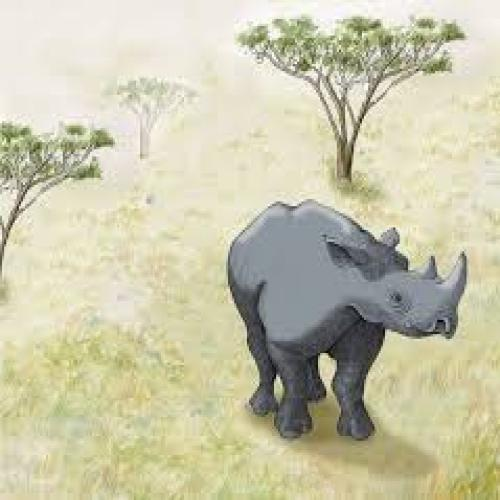rhino-endangered: (230, 199, 469, 443)
